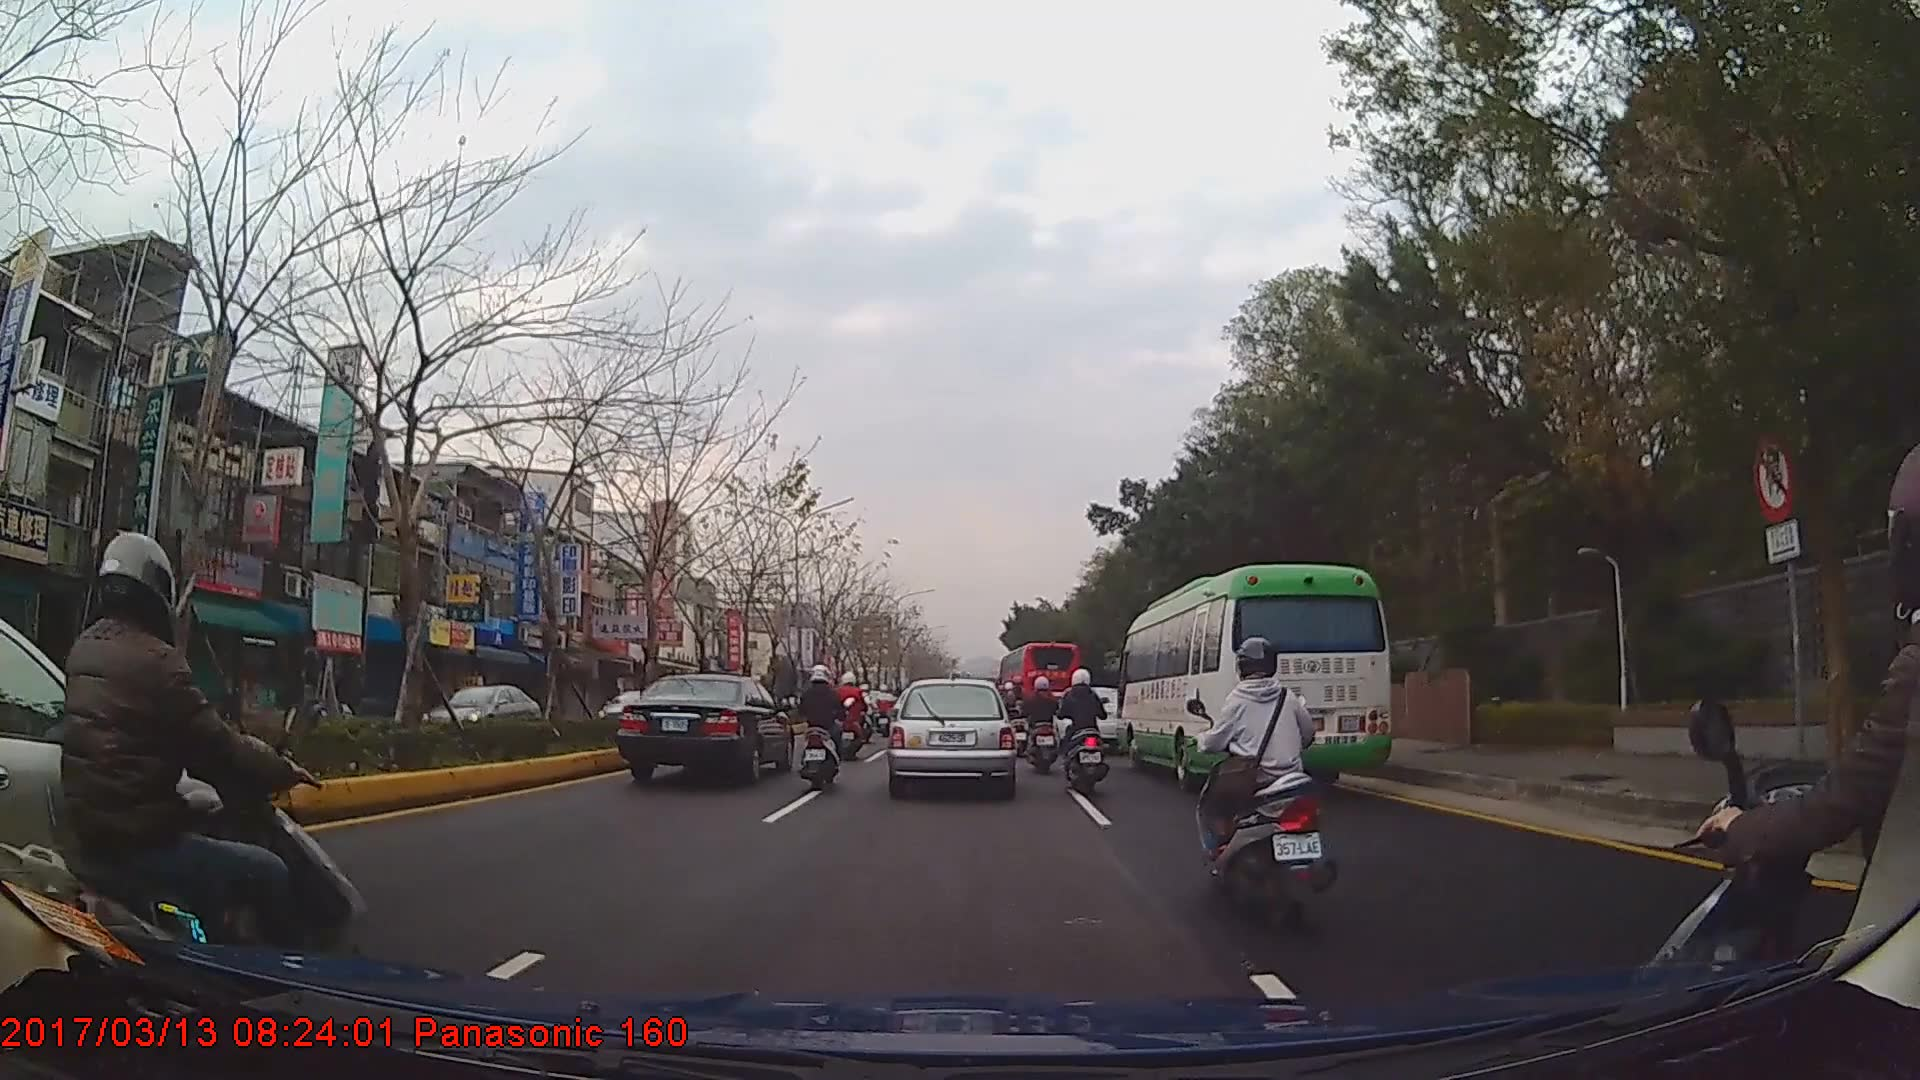rider: (4, 512, 367, 1022), (1193, 638, 1336, 928), (797, 666, 851, 795), (1059, 669, 1110, 794), (1023, 674, 1063, 775), (835, 673, 870, 759), (1007, 676, 1030, 756), (854, 687, 880, 743), (875, 683, 897, 727)
vehicle: (1116, 563, 1393, 796), (612, 672, 796, 785), (887, 678, 1014, 797), (998, 639, 1082, 734), (422, 682, 539, 749)
